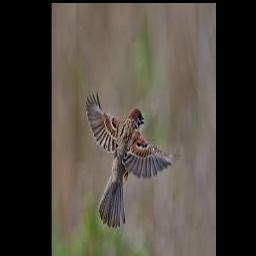Sparrow: (86, 90, 178, 228)
